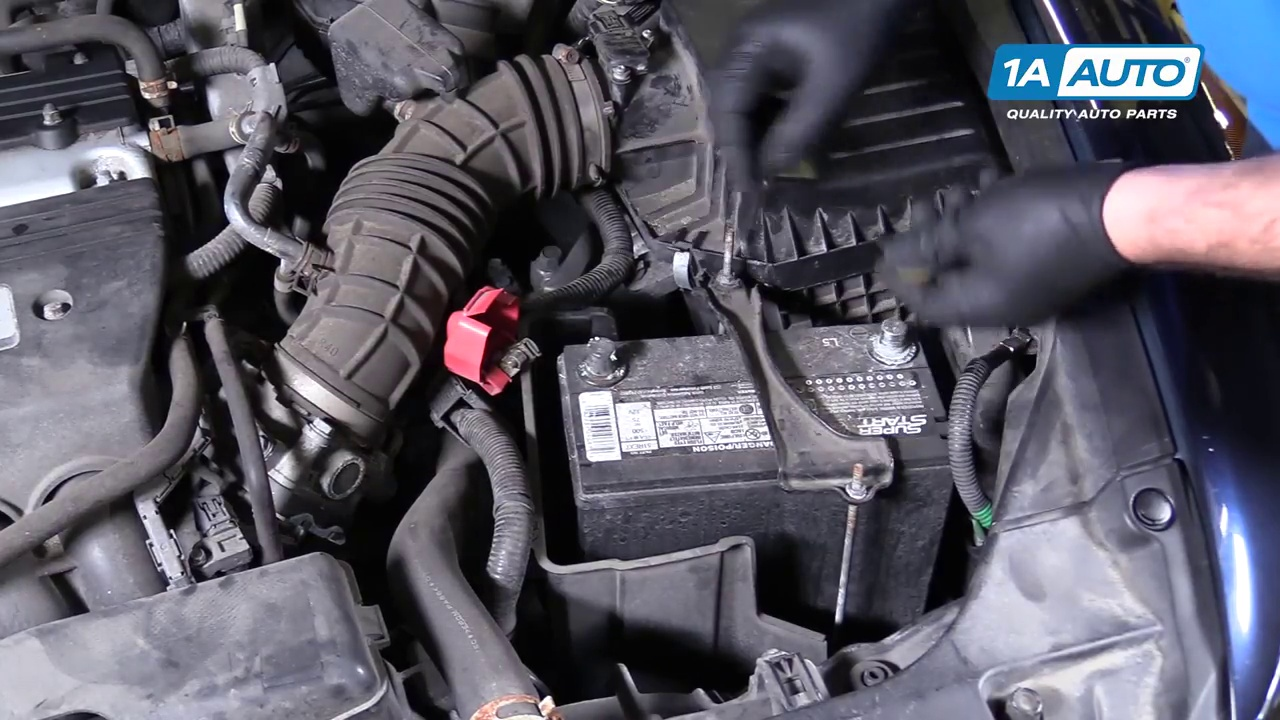battery: (557, 312, 953, 490)
neg_disconnected: (849, 286, 939, 384)
pos_disconnected: (430, 278, 637, 405)
